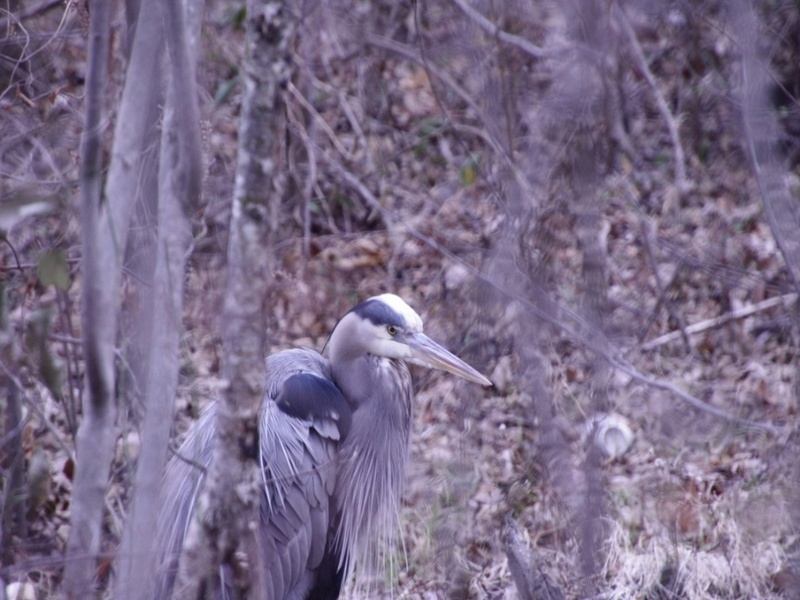heron: (256, 292, 495, 592)
